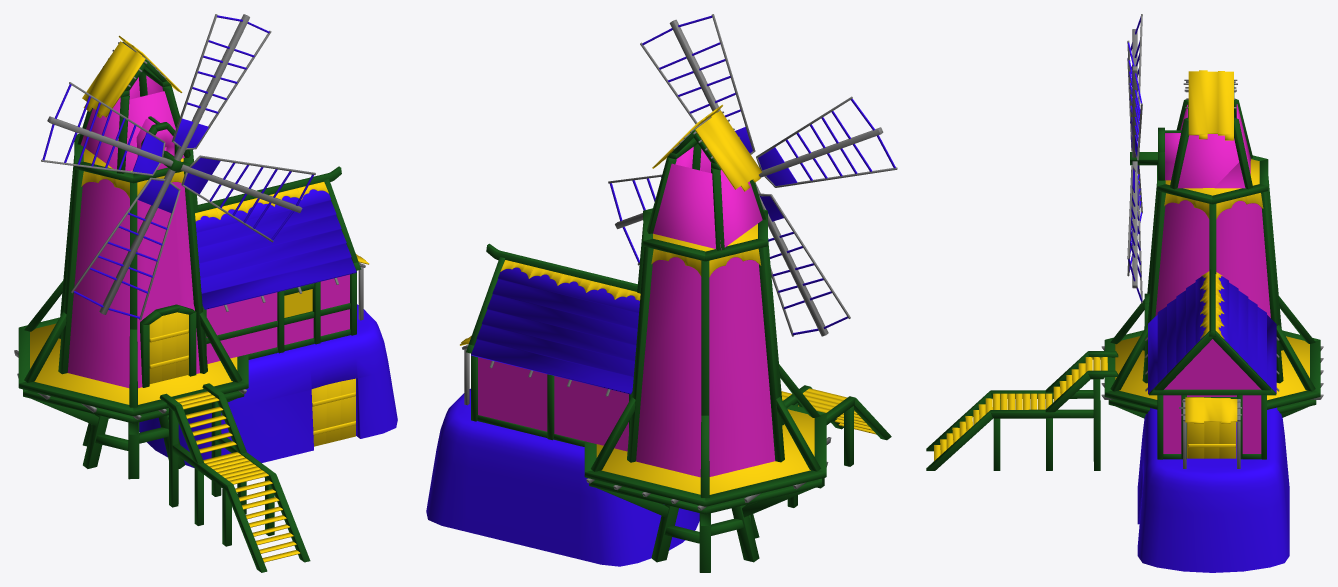
File: Molino.fbx
3 views of the same model, side by side, from view 1: azimuth 30°, elevation 25°; view 2: azimuth 150°, elevation 25°; view 3: azimuth 270°, elevation 25° (orthographic). The views are drawn at different scales.
Visible parts, largest first — view 1: STRUCTURE_LP, pierre_LP, Mur_moulin_LP, marches_LP, structure_2_LP, bois_pale_LP, planche_toit_LP, mur_maison_LP, mur_toit_LP, ornement_LP, petit_toit_LP; view 2: pierre_LP, STRUCTURE_LP, Mur_moulin_LP, mur_maison_LP, structure_2_LP, mur_toit_LP, planche_toit_LP, bois_pale_LP, marches_LP, ornement_LP; view 3: pierre_LP, STRUCTURE_LP, Mur_moulin_LP, planche_toit_LP, mur_maison_LP, marches_LP, structure_2_LP, mur_toit_LP, ornement_LP, bois_pale_LP, petit_toit_LP.
Boxes of the visible parts, x1,y1,x2,y2 form: STRUCTURE_LP: (18,42,361,572); pierre_LP: (139,189,397,467); Mur_moulin_LP: (67,179,199,388); marches_LP: (82,41,355,562); structure_2_LP: (14,14,365,419); bois_pale_LP: (42,15,313,318); planche_toit_LP: (30,35,369,435); mur_maison_LP: (206,274,349,363); mur_toit_LP: (80,75,184,170); ornement_LP: (81,171,328,221); petit_toit_LP: (136,117,174,169); pierre_LP: (426,267,699,566); STRUCTURE_LP: (466,128,891,572); Mur_moulin_LP: (636,257,775,477); mur_maison_LP: (478,357,628,451); structure_2_LP: (462,14,897,510); mur_toit_LP: (653,147,762,249); planche_toit_LP: (460,104,814,494); bois_pale_LP: (609,15,895,335); marches_LP: (695,110,876,434); ornement_LP: (500,248,761,300); pierre_LP: (1137,276,1289,572); STRUCTURE_LP: (926,80,1320,470); Mur_moulin_LP: (1155,200,1270,317); planche_toit_LP: (1115,70,1309,447); mur_maison_LP: (1163,339,1261,453); marches_LP: (934,357,1236,460); structure_2_LP: (1101,14,1323,468); mur_toit_LP: (1177,104,1250,188); ornement_LP: (1164,193,1263,338); bois_pale_LP: (1127,16,1142,301); petit_toit_LP: (1165,133,1180,180).
Bounding box in the file's own units: 1169 × 1353 × 1116.
